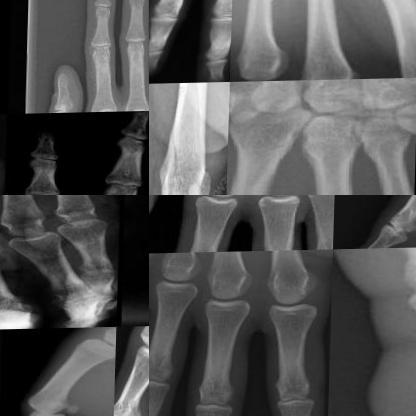fracture: (165, 111, 198, 177), (227, 181, 281, 194)
